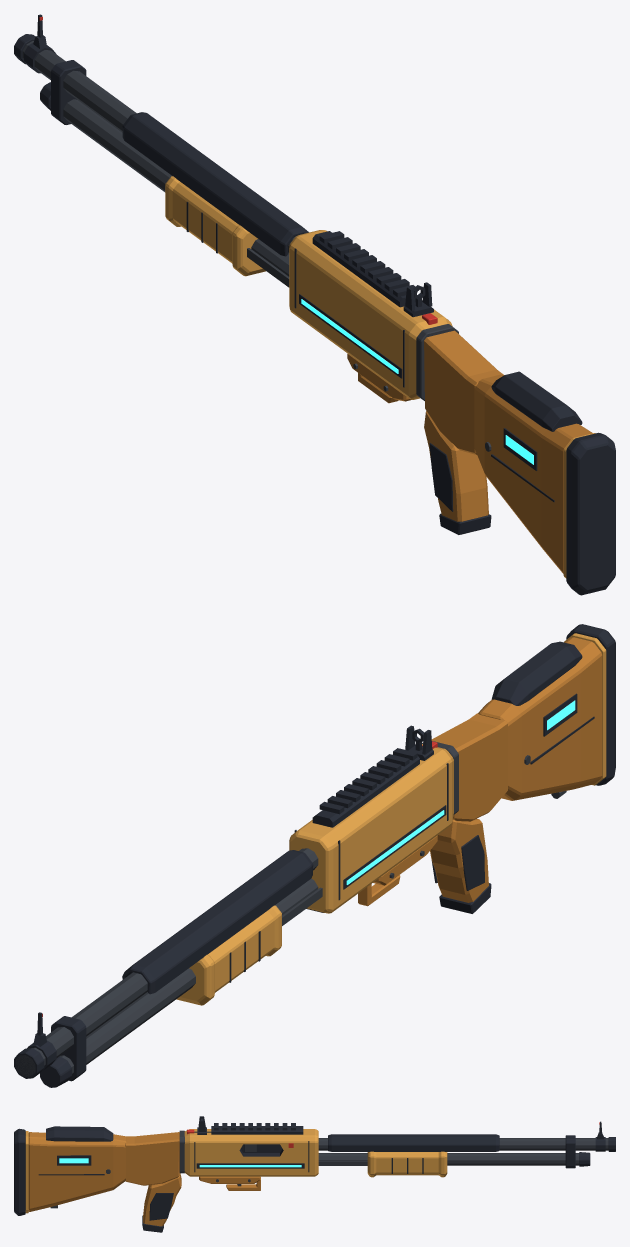
The model's file is sg_ram_v_3.glb.
The picture shows the model from 3 angles, top to bottom: view 1: azimuth 30°, elevation 25°; view 2: azimuth 150°, elevation 25°; view 3: azimuth 270°, elevation 25°; orthographic projection. The views are drawn at different scales.
Visible parts, largest first — view 1: receiver, stock_butt, stock_pad, heat_shield, stock_wrist, pump, mag_tube, stock_grip, rail_top, stock_comb, barrel, barrel_clamp (+3 smaller); view 2: receiver, stock_butt, heat_shield, stock_wrist, pump, mag_tube, barrel, rail_top, stock_grip, stock_comb, stock_pad, barrel_clamp (+7 smaller); view 3: stock_butt, receiver, heat_shield, stock_wrist, mag_tube, pump, barrel, stock_pad, stock_comb, rail_top, stock_grip, grip_panel (+10 smaller).
Part boxes in pixels (box(x1,y1,x2,y2)): receiver: box(289, 230, 452, 399); stock_butt: box(474, 374, 592, 573); stock_pad: box(566, 432, 615, 595); heat_shield: box(122, 112, 308, 256); stock_wrist: box(424, 330, 504, 454); pump: box(165, 176, 265, 276); mag_tube: box(50, 99, 289, 276); stock_grip: box(424, 411, 488, 521); rail_top: box(312, 231, 417, 307); stock_comb: box(491, 371, 582, 431); barrel: box(22, 41, 296, 254); barrel_clamp: box(51, 60, 86, 124); receiver: box(289, 744, 453, 913); stock_butt: box(478, 637, 602, 800); heat_shield: box(122, 850, 313, 994); stock_wrist: box(431, 713, 507, 821); pump: box(176, 905, 281, 1005); mag_tube: box(60, 878, 318, 1074); barrel: box(15, 848, 318, 1076); rail_top: box(312, 748, 419, 827); stock_grip: box(430, 818, 488, 902); stock_comb: box(491, 641, 582, 705); stock_pad: box(566, 624, 615, 785); barrel_clamp: box(51, 1016, 86, 1081); stock_butt: box(28, 1132, 126, 1211); receiver: box(184, 1129, 318, 1176); heat_shield: box(328, 1134, 499, 1151); stock_wrist: box(125, 1132, 179, 1185); mag_tube: box(318, 1153, 579, 1165); pump: box(367, 1151, 447, 1177); barrel: box(318, 1138, 608, 1150); stock_pad: box(14, 1128, 25, 1215); stock_comb: box(46, 1126, 113, 1141); rail_top: box(211, 1123, 303, 1134); stock_grip: box(143, 1173, 181, 1226); grip_panel: box(149, 1193, 173, 1220).
Bounding box in the file's own units: 0.046 × 0.1981 × 0.982.
